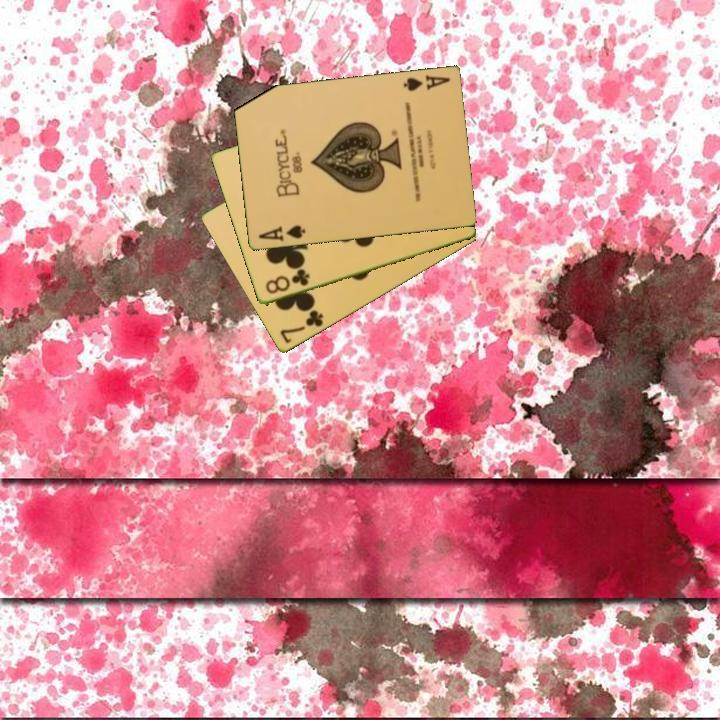7c: (276, 307, 326, 347)
8c: (262, 266, 312, 297)
As: (255, 222, 308, 245), (400, 72, 453, 94)
